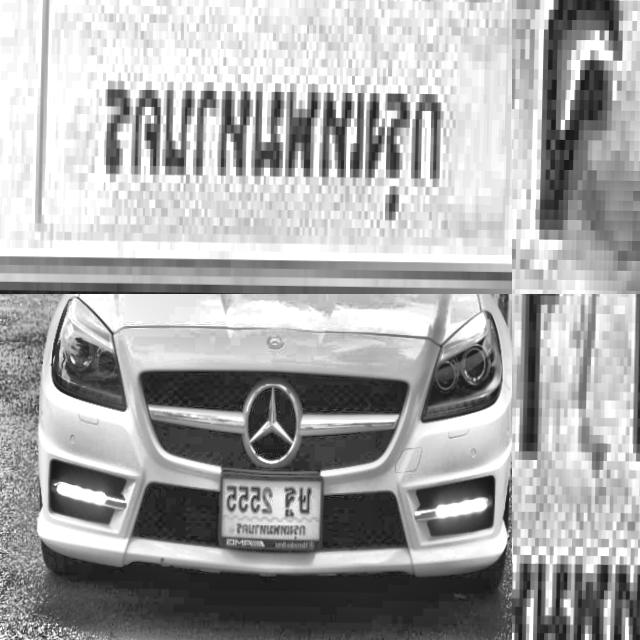license-plate: (0, 0, 512, 287), (512, 294, 640, 640), (512, 0, 640, 294), (216, 463, 335, 558)
